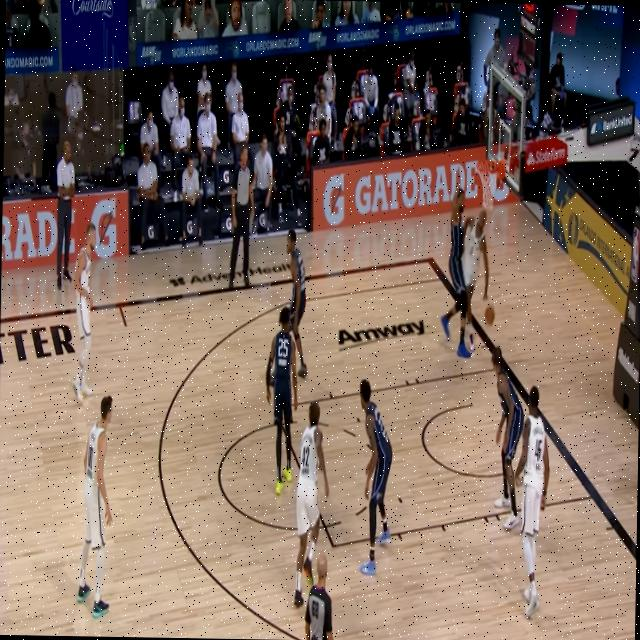Foul: (436, 168, 486, 355)
